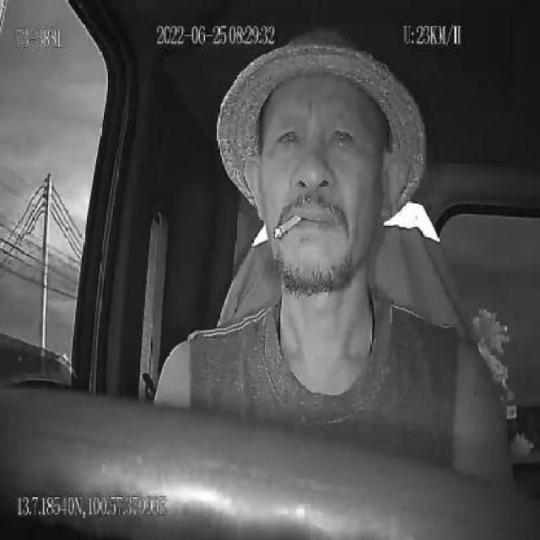smoking: (275, 209, 303, 242)
